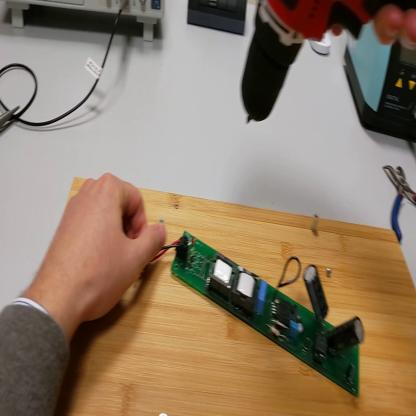electric screwdriver: (240, 2, 416, 130)
hand: (45, 173, 167, 325), (331, 3, 416, 52)
high voltage board: (132, 230, 369, 402)
oscilloscope: (5, 2, 165, 42)
oscilloscope probe tip: (1, 104, 21, 132)
pliers: (384, 163, 416, 246)
working area: (64, 176, 416, 415)
